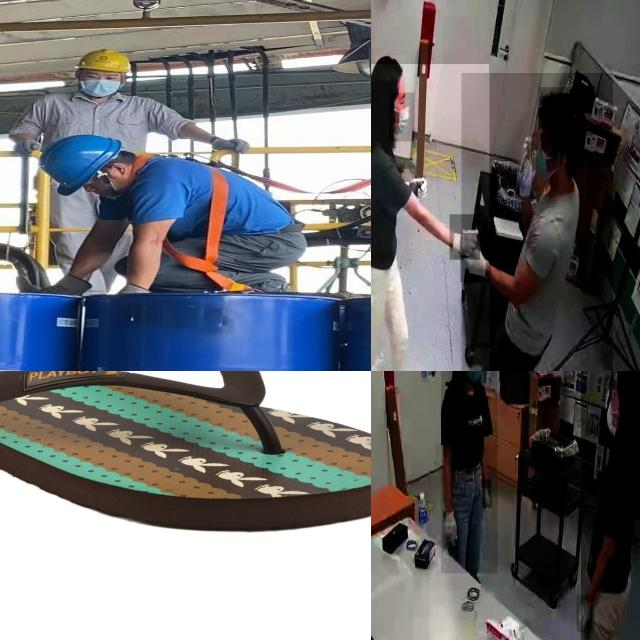Harness: (113, 152, 254, 298)
Sandals: (0, 371, 371, 533)
face_mask: (532, 133, 558, 191), (389, 92, 415, 142), (606, 391, 620, 438), (461, 371, 486, 383)
hand_glove: (460, 233, 490, 283), (450, 214, 480, 260), (576, 595, 594, 633), (443, 510, 459, 550), (482, 479, 492, 509)
head_nohelmet: (538, 87, 588, 131), (371, 55, 405, 81), (615, 371, 640, 380)
person: (461, 73, 613, 371), (371, 64, 489, 371), (580, 371, 640, 640), (441, 371, 498, 574)
